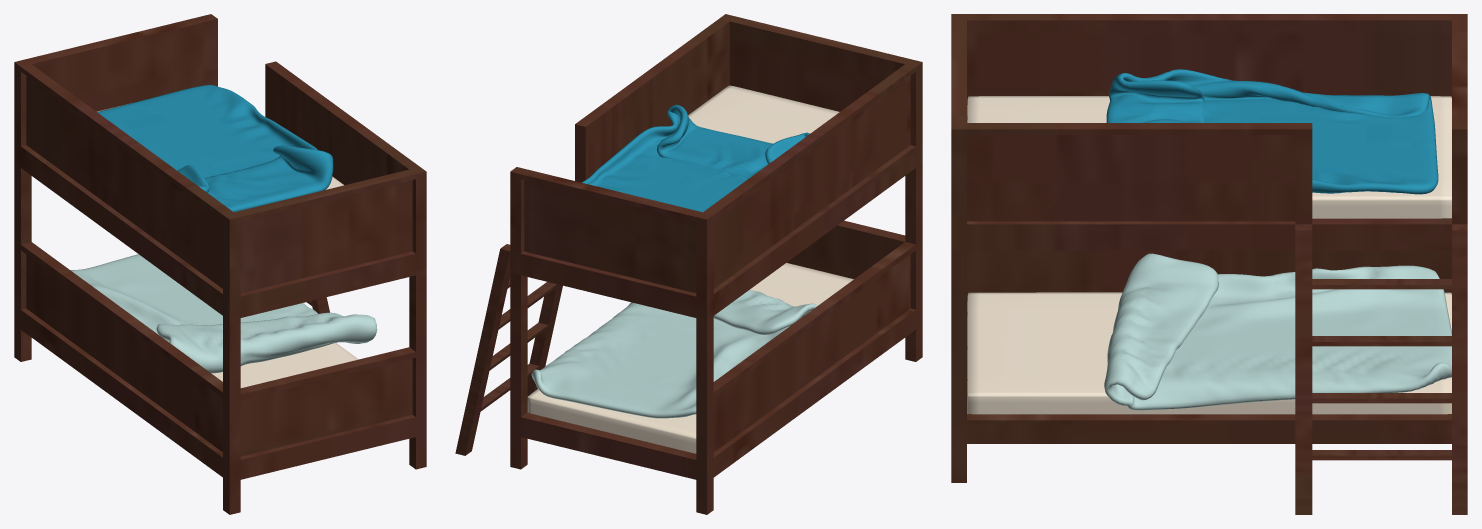
File: Bed26.glb
3 renders of one model, left to right at view 1: azimuth 30°, elevation 25°; view 2: azimuth 150°, elevation 25°; view 3: azimuth 270°, elevation 25°, orthographic. The views are drawn at different scales.
Parts seen in each view (by area): view 1: BedFrame26, Blanket26_2, Blanket26_1, Mattress26_1; view 2: BedFrame26, Blanket26_1, Blanket26_2, Mattress26_1, Mattress26_2; view 3: BedFrame26, Blanket26_1, Mattress26_1, Blanket26_2, Mattress26_2.
Part boxes in pixels (x1,y1,x2,y2): BedFrame26: (14,14,426,514); Blanket26_2: (97,85,333,212); Blanket26_1: (70,254,377,373); Mattress26_1: (211,343,358,387); BedFrame26: (455,14,922,514); Blanket26_1: (531,289,817,418); Blanket26_2: (582,104,809,212); Mattress26_1: (527,263,853,453); Mattress26_2: (688,85,839,143); BedFrame26: (951,14,1467,514); Blanket26_1: (1104,253,1451,410); Mattress26_1: (967,292,1451,414); Blanket26_2: (1106,69,1438,194); Mattress26_2: (967,96,1451,218).
Size of the model in its own units: 3.32 by 3.73 by 4.93.
3 materials, 3 textured.
